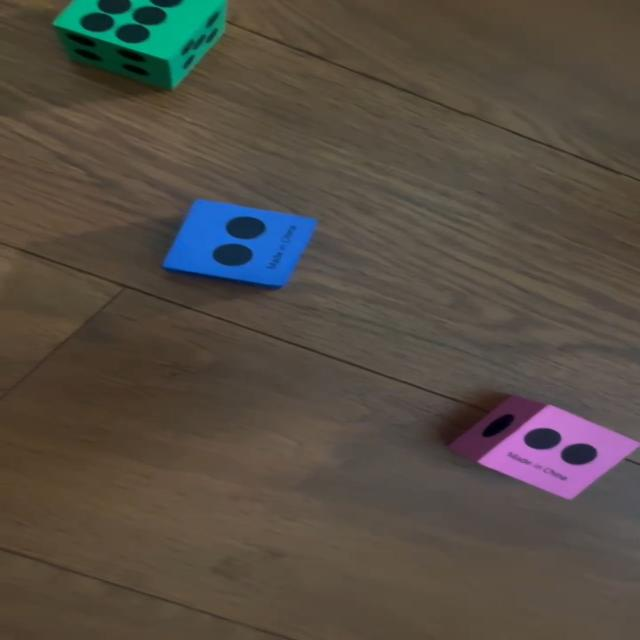blue_block: (166, 200, 316, 290)
